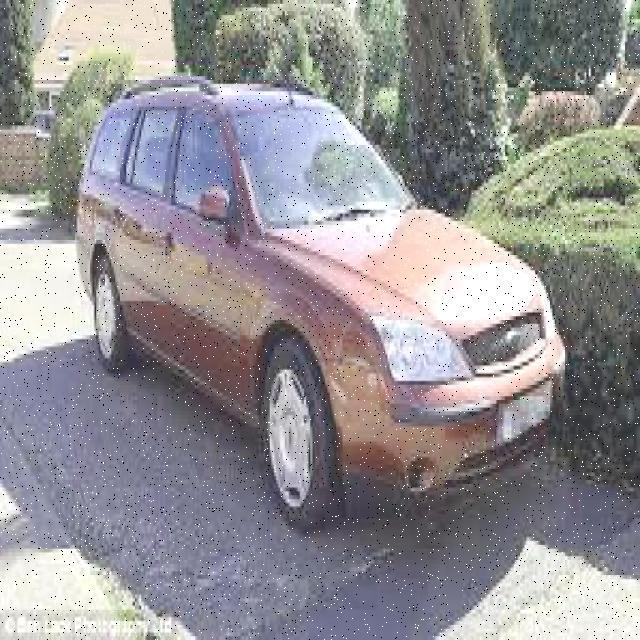car damage: (330, 317, 397, 420)
